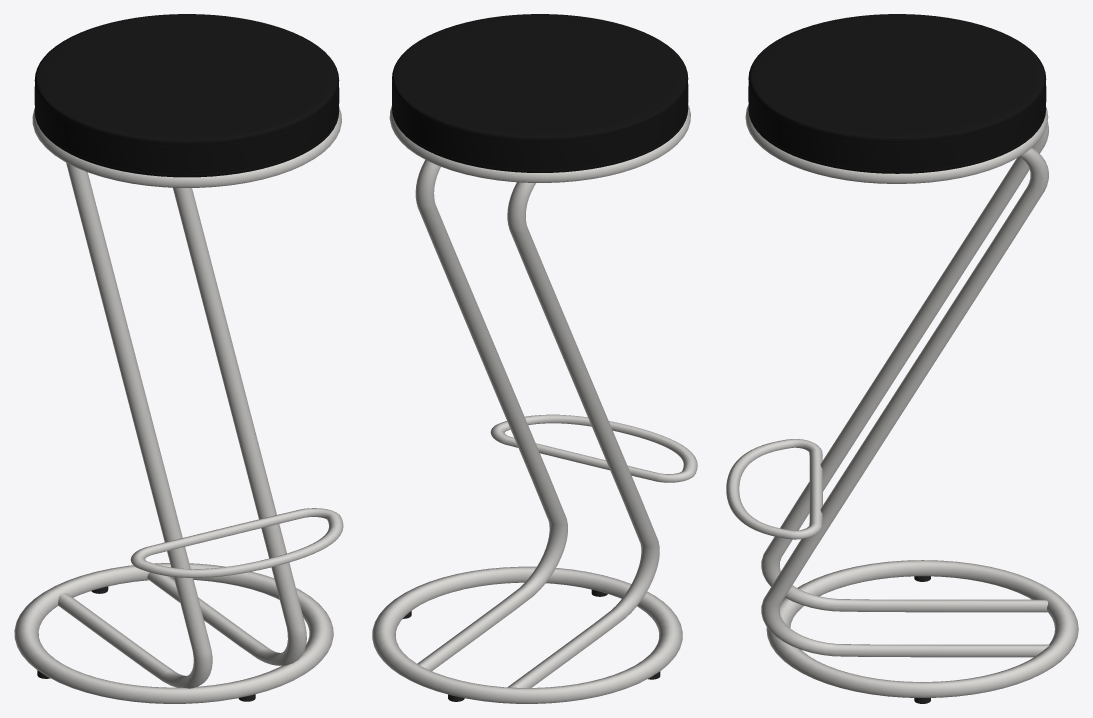
3 views of the same model, side by side, from view 1: azimuth 30°, elevation 25°; view 2: azimuth 150°, elevation 25°; view 3: azimuth 270°, elevation 25° (orthographic). The views are drawn at different scales.
Parts seen in each view (by area): view 1: barstool; view 2: barstool; view 3: barstool.
Boxes of the visible parts, x1,y1,x2,y2 form: barstool: [14, 14, 343, 703]; barstool: [372, 14, 697, 703]; barstool: [726, 14, 1078, 703].
Size of the model in its own units: 0.2757 by 0.5493 by 0.3112.
1 material, 1 textured.
